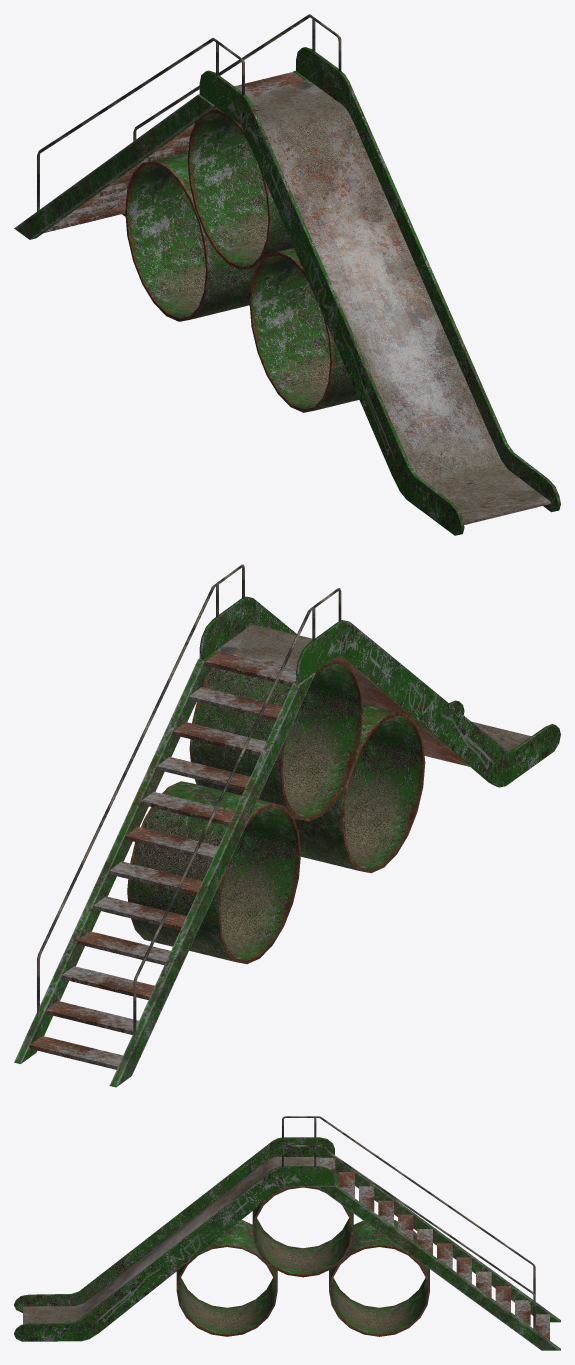
The picture shows the model from 3 angles, top to bottom: view 1: azimuth 30°, elevation 25°; view 2: azimuth 150°, elevation 25°; view 3: azimuth 270°, elevation 25°; orthographic projection. The views are drawn at different scales.
Visible parts, largest first — view 1: Gorka_0; view 2: Gorka_0; view 3: Gorka_0.
Part boxes in pixels (box(x1,y1,x2,y2)): Gorka_0: box(14, 14, 560, 535); Gorka_0: box(14, 564, 560, 1087); Gorka_0: box(14, 1116, 560, 1350).
Bounding box in the file's own units: 0.8055 × 2.52 × 6.09.
1 material, 1 textured.
